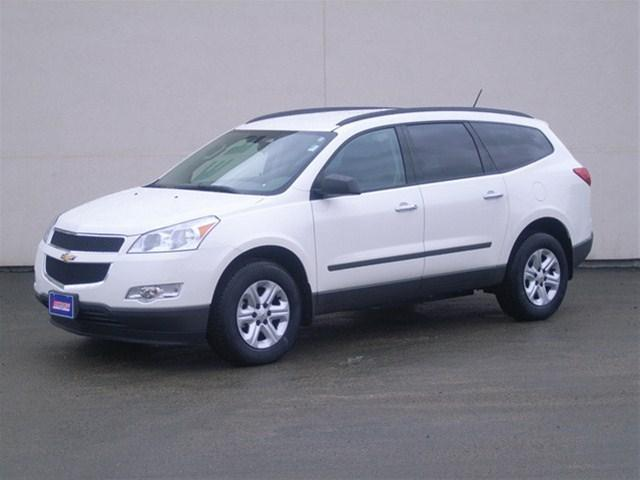car: (19, 93, 640, 375)
